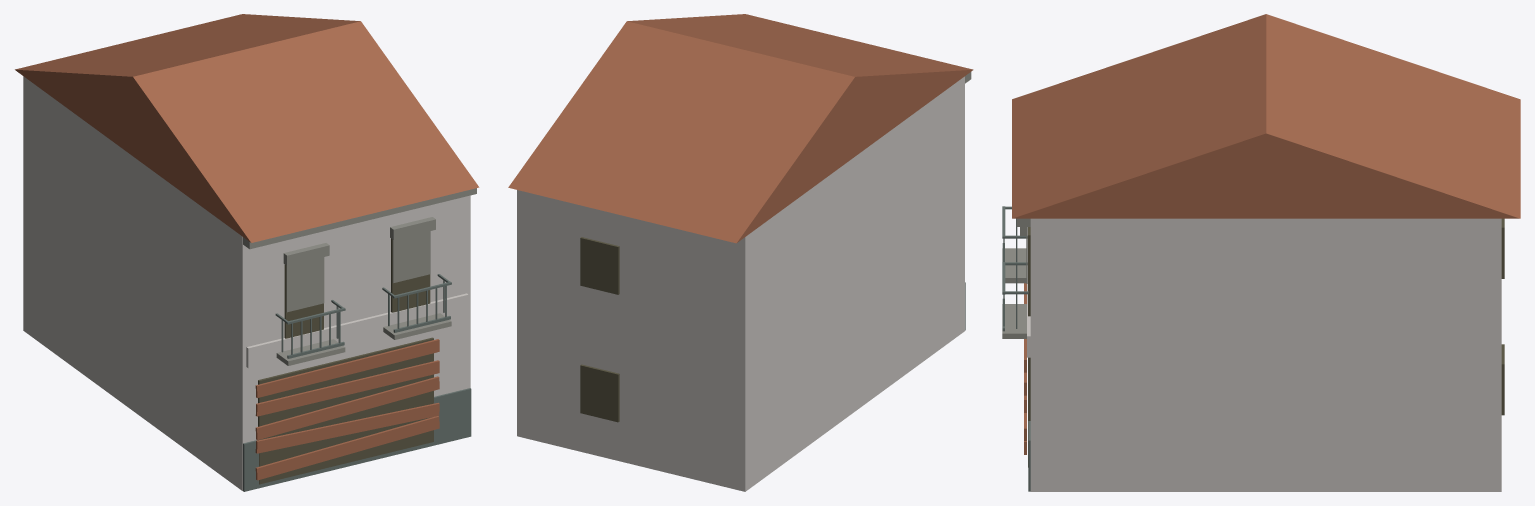
File: SM_BajoComercial_v4_Tapiada_LOD0.fbx
The picture shows the model from 3 angles, left to right: view 1: azimuth 30°, elevation 25°; view 2: azimuth 150°, elevation 25°; view 3: azimuth 270°, elevation 25°; orthographic projection. The views are drawn at different scales.
Visible parts, largest first — view 1: SM_pueblo_valenciano_v9_LOD0; view 2: SM_pueblo_valenciano_v9_LOD0; view 3: SM_pueblo_valenciano_v9_LOD0.
Boxes of the visible parts, left/top/right/bottom form: SM_pueblo_valenciano_v9_LOD0: left=15, top=14, right=479, bottom=491; SM_pueblo_valenciano_v9_LOD0: left=508, top=14, right=973, bottom=491; SM_pueblo_valenciano_v9_LOD0: left=1002, top=14, right=1520, bottom=491.
Bounding box in the file's own units: 6 × 8.4 × 11.
